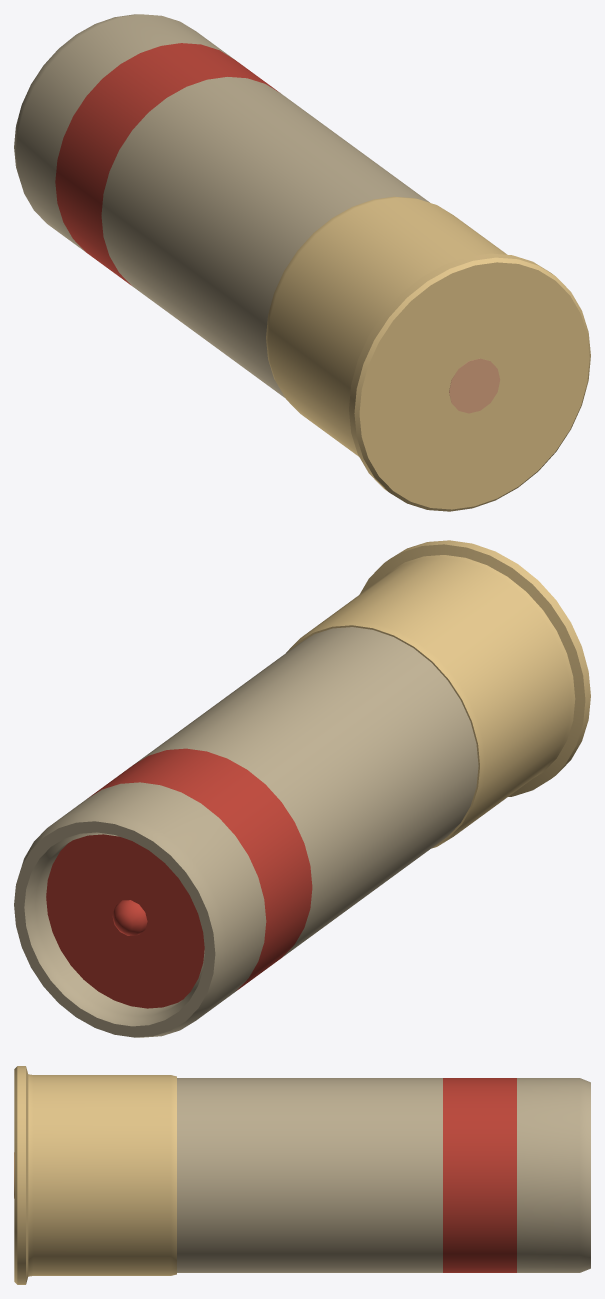
The model's file is flare_red.glb.
The picture shows the model from 3 angles, top to bottom: view 1: azimuth 30°, elevation 25°; view 2: azimuth 150°, elevation 25°; view 3: azimuth 270°, elevation 25°; orthographic projection. The views are drawn at different scales.
Visible parts, largest first — view 1: body; view 2: body; view 3: body.
Part boxes in pixels (left/top/right/bottom): body: left=14, top=14, right=590, bottom=511; body: left=14, top=540, right=590, bottom=1037; body: left=14, top=1066, right=590, bottom=1284.
Bounding box in the file's own units: 0.0296 × 0.0296 × 0.078.
